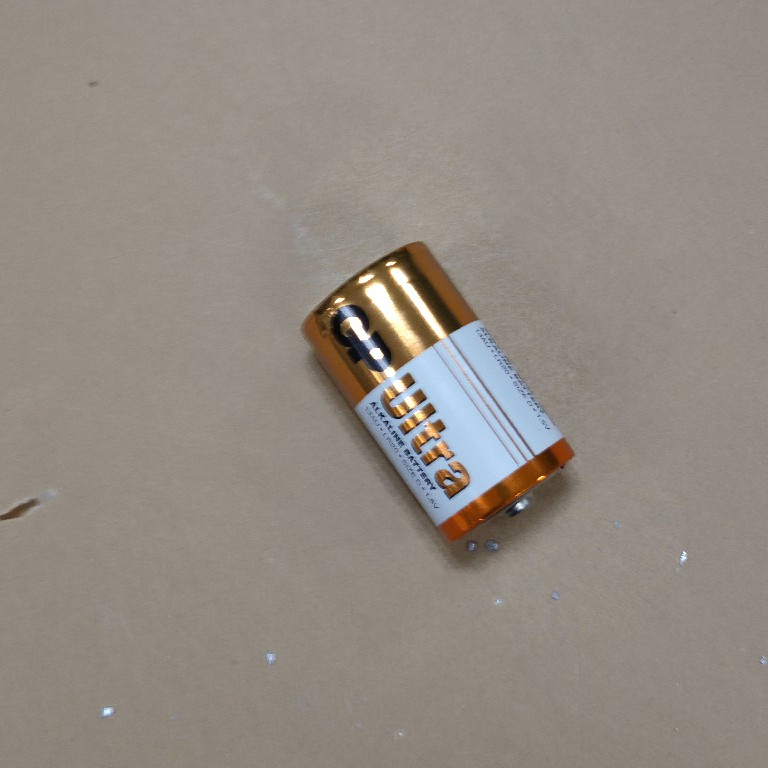charge: (291, 231, 590, 571)
